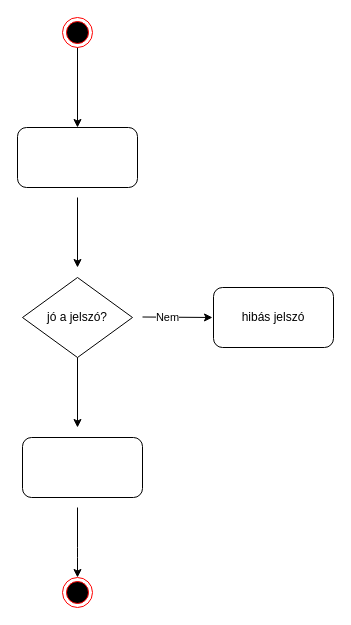
Image size: 351x625. Some labels were removed from this diagram. The shapes that lost their labels are listed below. From the top down, each one's centre as x and y in pixels, then its label:
At pixel 77 157: "jelszó megadása".
At pixel 82 467: "Üdvözlő szöveg kiírása".
